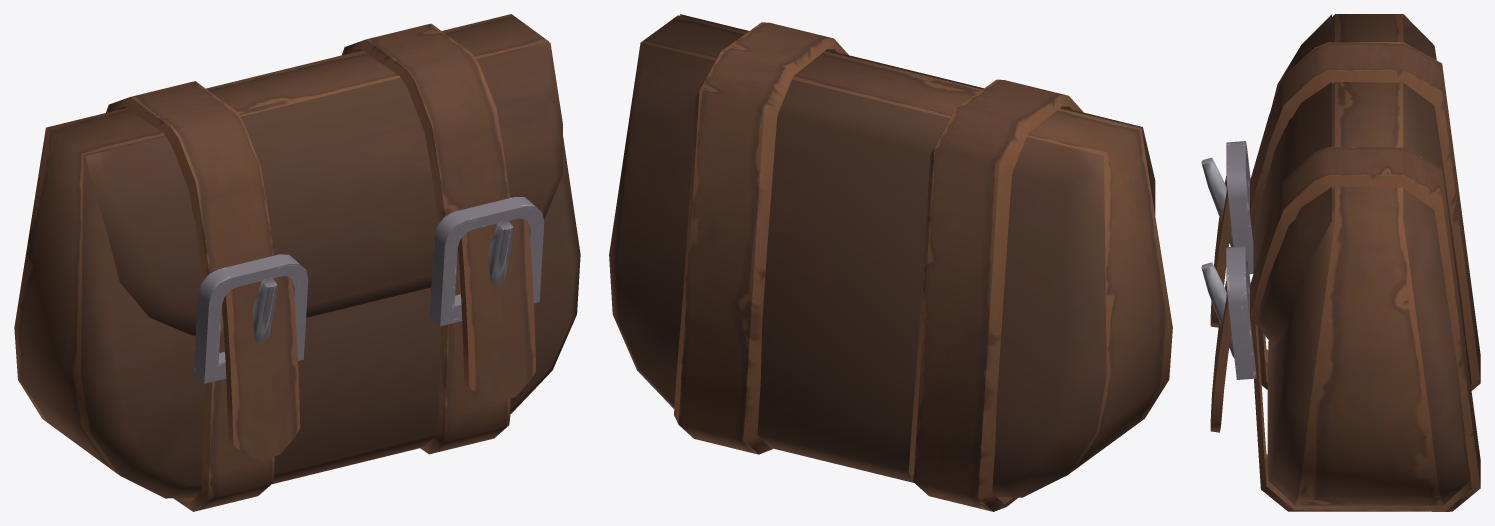
File: Pouch_Large.glb
The picture shows the model from 3 angles, left to right: view 1: azimuth 30°, elevation 25°; view 2: azimuth 150°, elevation 25°; view 3: azimuth 270°, elevation 25°; orthographic projection. The views are drawn at different scales.
Parts seen in each view (by area): view 1: Pouch_Large; view 2: Pouch_Large; view 3: Pouch_Large.
Part boxes in pixels (box(x1,y1,x2,y2)): Pouch_Large: box(14, 14, 580, 511); Pouch_Large: box(609, 14, 1172, 511); Pouch_Large: box(1201, 14, 1480, 511).
Bounding box in the file's own units: 0.2255 × 0.1591 × 0.1198.
2 materials, 2 textured.
